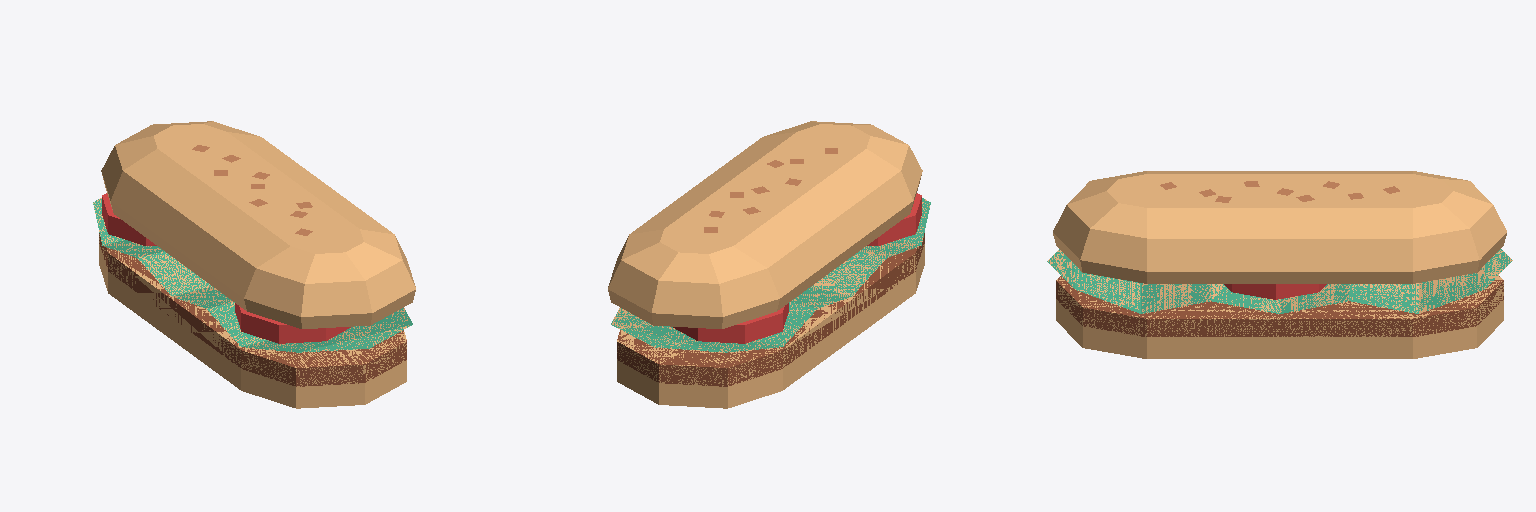
3 views of the same model, side by side, from view 1: azimuth 30°, elevation 25°; view 2: azimuth 150°, elevation 25°; view 3: azimuth 270°, elevation 25° (orthographic).
Visible parts, largest first — view 1: sub, meat, lettuce, tomaties; view 2: sub, meat, lettuce, tomaties; view 3: sub, meat, lettuce, Group.
Part boxes in pixels (left/top/right/bottom): sub: left=99, top=121, right=415, bottom=408; meat: left=99, top=233, right=406, bottom=386; lettuce: left=93, top=198, right=412, bottom=352; tomaties: left=102, top=193, right=350, bottom=343; sub: left=608, top=121, right=924, bottom=408; meat: left=617, top=233, right=924, bottom=386; lettuce: left=611, top=198, right=930, bottom=352; tomaties: left=673, top=193, right=921, bottom=343; sub: left=1053, top=171, right=1506, bottom=358; meat: left=1056, top=275, right=1503, bottom=336; lettuce: left=1047, top=249, right=1512, bottom=313; Group: left=1224, top=284, right=1326, bottom=299.
Size of the model in its own units: 0.2827 by 0.2125 by 0.6756.